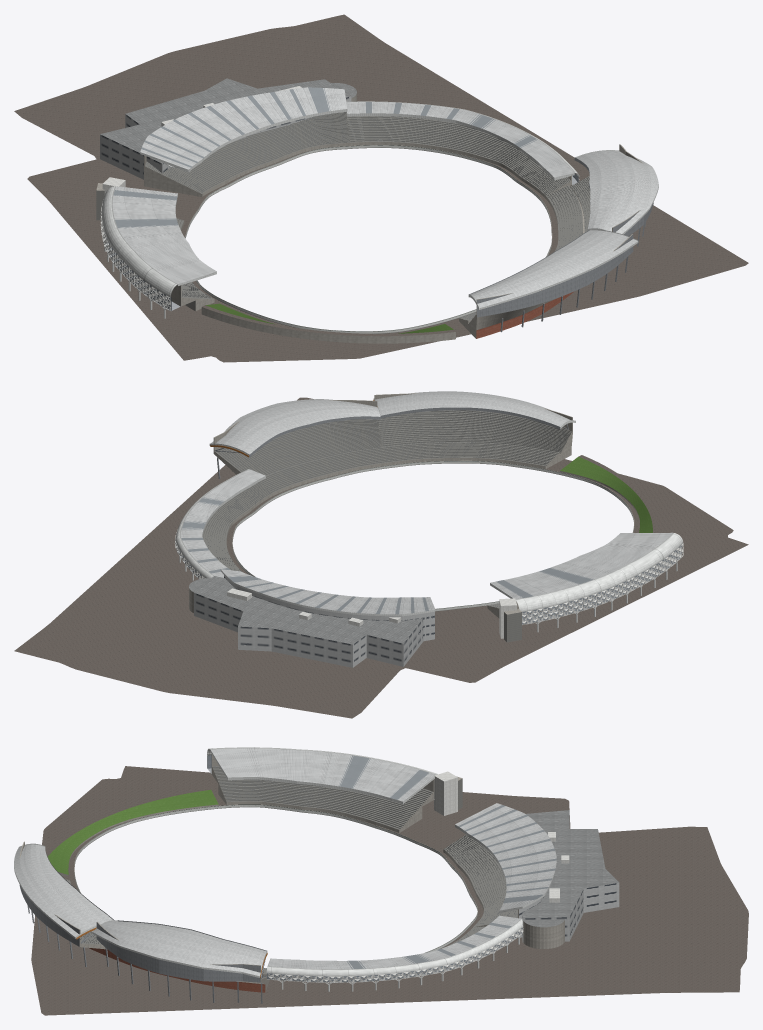
Rendered from mars.glb.
3 views of the same model, one above another, from view 1: azimuth 30°, elevation 25°; view 2: azimuth 150°, elevation 25°; view 3: azimuth 270°, elevation 25° (orthographic). The views are drawn at different scales.
Visible parts, largest first — view 1: concourse, roofs, stands, buildings, seat_posts, fence; view 2: concourse, stands, roofs, buildings, seat_posts, fence; view 3: concourse, roofs, stands, buildings, fence, seat_posts.
Part boxes in pixels (left/top/right/bottom): concourse: left=14, top=14, right=748, bottom=362; roofs: left=101, top=87, right=658, bottom=332; stands: left=100, top=112, right=653, bottom=343; buildings: left=96, top=78, right=356, bottom=220; seat_posts: left=146, top=112, right=589, bottom=319; fence: left=185, top=145, right=552, bottom=333; concourse: left=14, top=397, right=748, bottom=718; stands: left=174, top=393, right=683, bottom=640; roofs: left=175, top=391, right=683, bottom=616; buildings: left=189, top=576, right=521, bottom=667; seat_posts: left=206, top=410, right=568, bottom=606; fence: left=232, top=460, right=634, bottom=611; concourse: left=31, top=766, right=748, bottom=1015; roofs: left=14, top=747, right=556, bottom=1003; stands: left=19, top=754, right=543, bottom=992; buildings: left=434, top=771, right=619, bottom=949; fence: left=74, top=804, right=477, bottom=970; seat_posts: left=80, top=766, right=517, bottom=977.
Size of the model in its own units: 220 by 19.69 by 274.
Materials: 18 (18 with a texture image).
